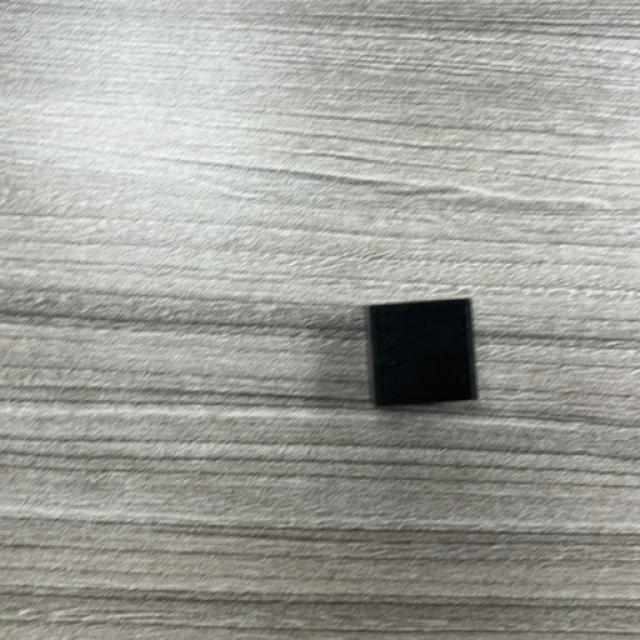Negro: (365, 299, 480, 410)
